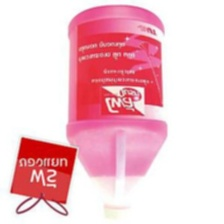cleaning_solution: (64, 2, 169, 222)
